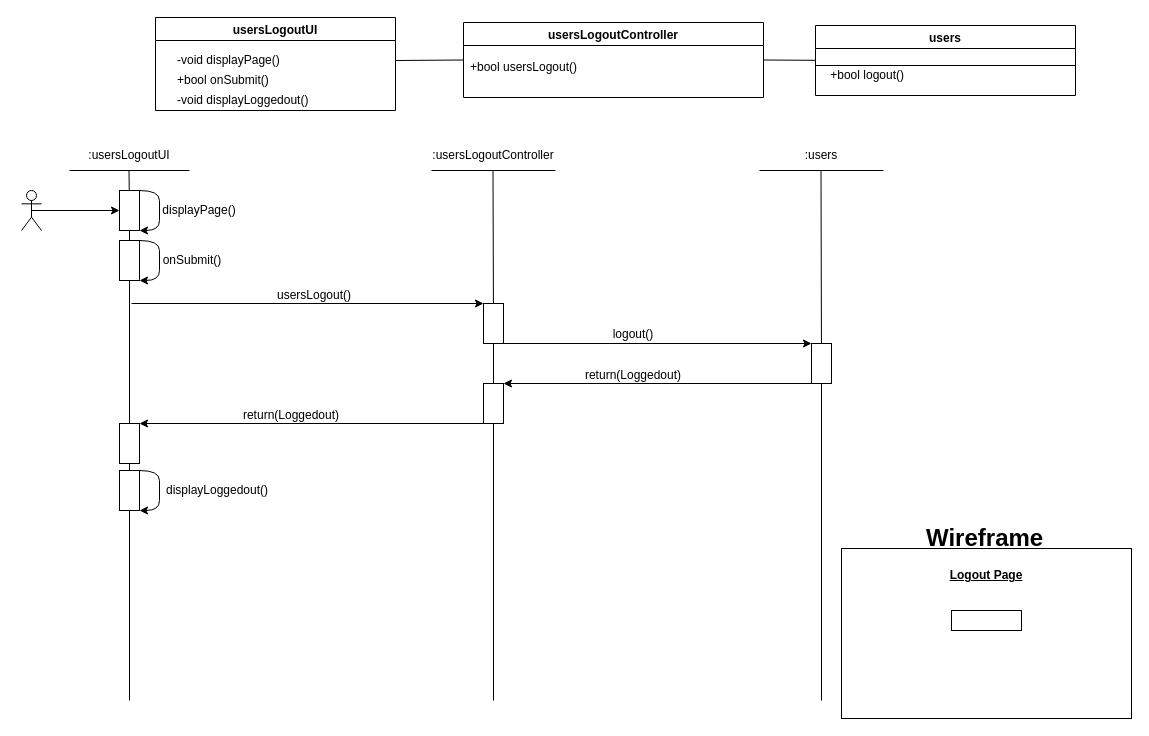
This 1149x736 diagram has some shape labels left out. The shapes that lost their labels are listed below. From the top down, each one's centre as x and y in pixels, then its label:
pixel 31 210: Actor
pixel 986 620: Log out
